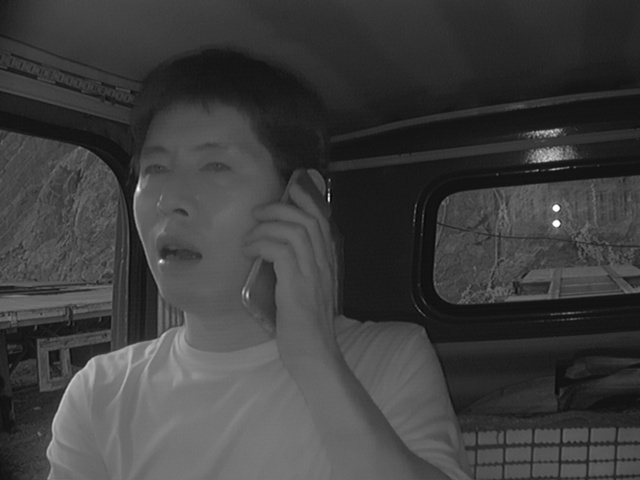hand: (245, 190, 342, 346)
